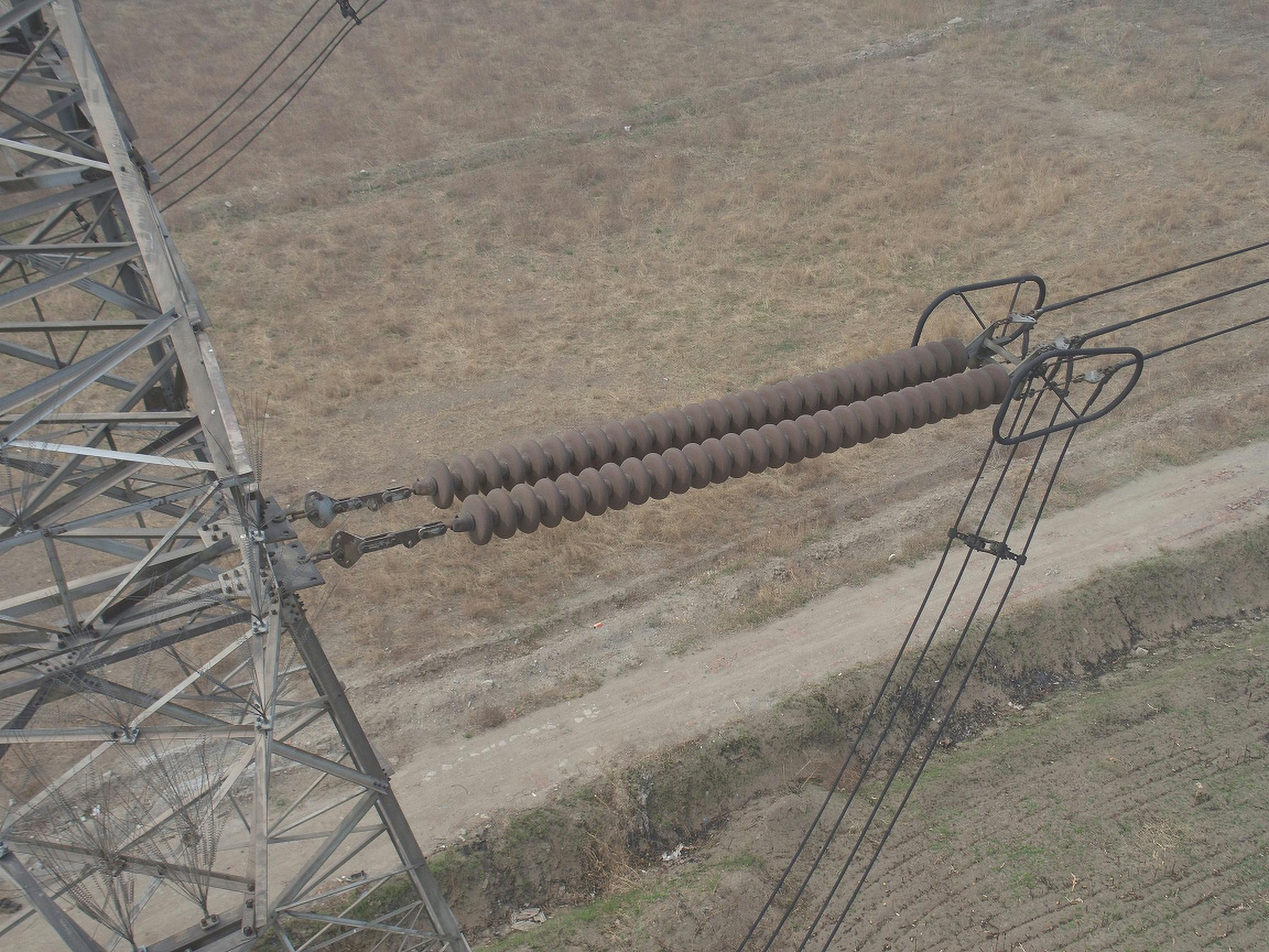insulator: (417, 331, 1016, 552)
